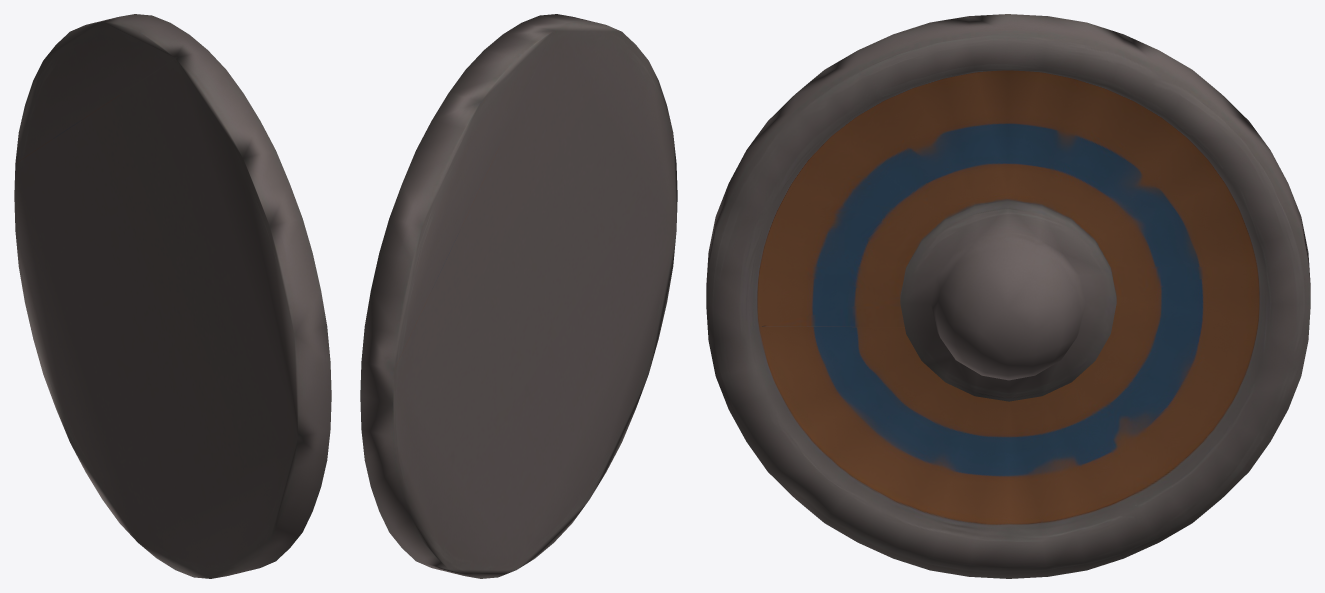
The model's file is grunt_shield_tripo.glb.
The picture shows the model from 3 angles, left to right: view 1: azimuth 30°, elevation 25°; view 2: azimuth 150°, elevation 25°; view 3: azimuth 270°, elevation 25°; orthographic projection. The views are drawn at different scales.
Parts seen in each view (by area): view 1: tripo_node_aea30459-4de5-4211-8e7b-07fcbfdebd6c; view 2: tripo_node_aea30459-4de5-4211-8e7b-07fcbfdebd6c; view 3: tripo_node_aea30459-4de5-4211-8e7b-07fcbfdebd6c.
Part boxes in pixels (x1,y1,x2,y2): tripo_node_aea30459-4de5-4211-8e7b-07fcbfdebd6c: (14, 14, 331, 578); tripo_node_aea30459-4de5-4211-8e7b-07fcbfdebd6c: (360, 14, 677, 578); tripo_node_aea30459-4de5-4211-8e7b-07fcbfdebd6c: (706, 14, 1310, 578).
Size of the model in its own units: 0.1777 by 0.998 by 0.998.
Materials: 1 (1 with a texture image).
